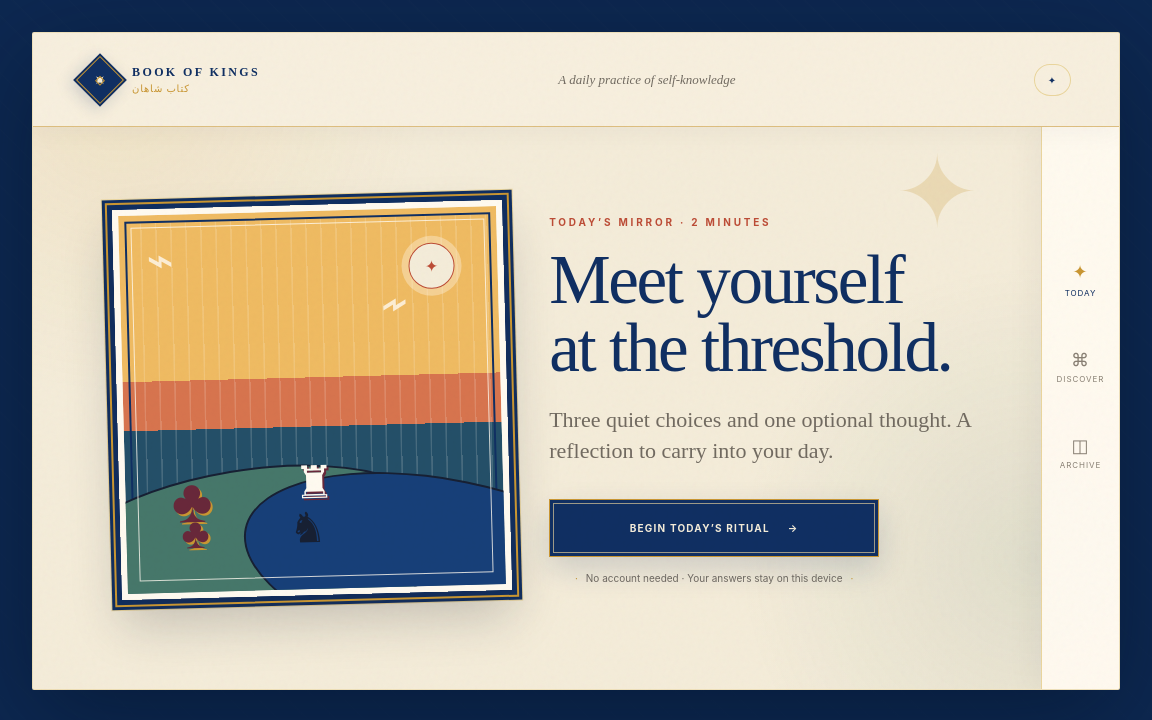
Test: Mobile app › restores premium access and saved mirrors
Check: the button named "Open premium" reads "✦", box [1034,64,1071,96]
Click the button "◫ Archive": click(1080, 452) [1050,409,1111,495]
(page scrolled)
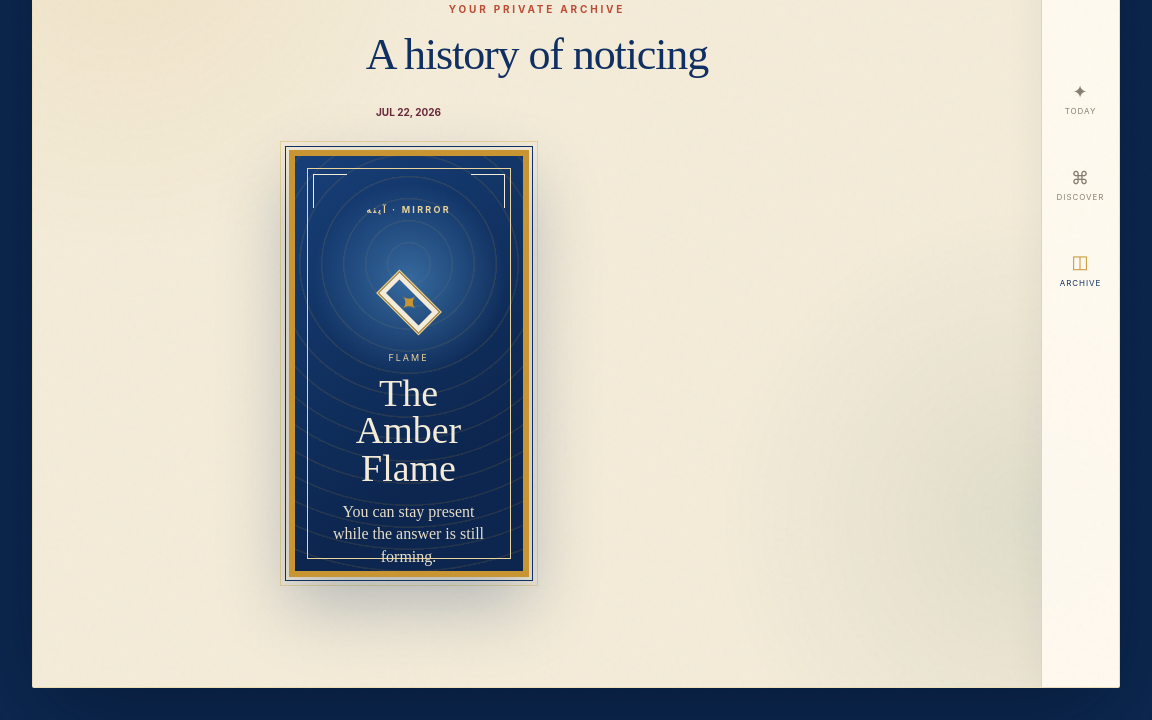
Check: the heading "A history of noticing" is shown, box [366,30,708,79]
